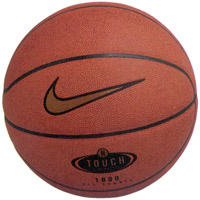basketball: (3, 1, 200, 199)
